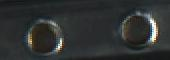joints: (113, 8, 158, 51), (23, 15, 64, 57)
